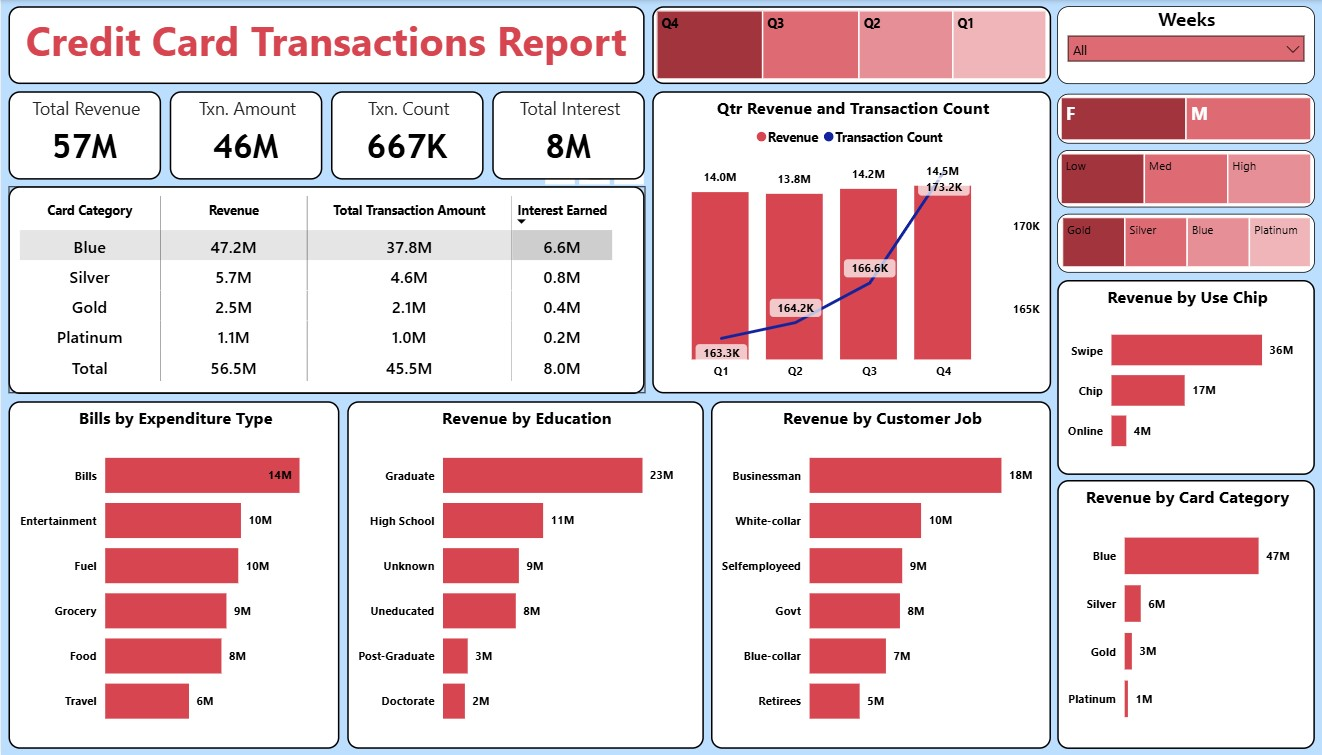

What the dashboard file says about the page in this screenshot:
{"tool":"powerbi","page":{"name":"Credit Card Transaction","canvas":[1400,800],"ordinal":0},"visuals":[{"type":"lineStackedColumnComboChart","title":"Qtr Revenue and Transaction Count","fields":{"Category":["public cc_detail.qtr"],"Y":["Sum(public cc_detail.Revenue)"],"Y2":["Sum(public cc_detail.total_trans_ct)"]},"box":[689.6,96.6,422.2,320.3],"z":0},{"type":"barChart","title":"Bills by Expenditure Type","fields":{"Y":["Sum(public cc_detail.Revenue)"],"Category":["public cc_detail.exp_type"]},"box":[7.9,424.9,350.8,368],"z":1000},{"type":"barChart","title":"Revenue by Education","fields":{"Y":["Sum(public cc_detail.Revenue)"],"Category":["public cust_detail.education_level"]},"box":[366.7,424.9,377.2,368],"z":2000},{"type":"barChart","title":"Revenue by Customer Job","fields":{"Y":["Sum(public cc_detail.Revenue)"],"Category":["public cust_detail.customer_job"]},"box":[751.8,424.9,360,368],"z":3000},{"type":"barChart","title":"Revenue by Card Category","fields":{"Y":["Sum(public cc_detail.Revenue)"],"Category":["public cc_detail.card_category"]},"box":[1118.5,508.3,272.7,284.6],"z":4000},{"type":"barChart","title":"Revenue by Use Chip","fields":{"Y":["Sum(public cc_detail.Revenue)"],"Category":["public cc_detail.use_chip"]},"box":[1118.5,296.5,272.7,206.5],"z":5000},{"type":"tableEx","fields":{"Values":["public cc_detail.card_category","Sum(public cc_detail.Revenue)","Sum(public cc_detail.total_trans_amt)","Sum(public cc_detail.interest_earned)"]},"box":[7.9,197.2,673.7,219.7],"z":6000},{"type":"card","title":"Total Revenue","fields":{"Values":["Sum(public cc_detail.Revenue)"]},"box":[7.9,96.6,161.5,94],"z":7000},{"type":"card","title":"Txn. Amount","fields":{"Values":["Sum(public cc_detail.total_trans_amt)"]},"box":[178.7,96.6,161.5,94],"z":8000},{"type":"card","title":"Txn. Count","fields":{"Values":["Sum(public cc_detail.total_trans_ct)"]},"box":[349.4,96.6,161.5,94],"z":9000},{"type":"card","title":"Total Interest","fields":{"Values":["Sum(public cc_detail.interest_earned)"]},"box":[520.2,96.6,161.5,94],"z":10000},{"type":"slicer","title":"Weeks","fields":{"Values":["public cc_detail.week_start_date"]},"box":[1118.5,6.6,272.7,82.1],"z":11000},{"type":"treemap","fields":{"Group":["public cc_detail.qtr"],"Values":["Avg(public cc_detail.client_num)"]},"box":[689.6,6.6,422.2,82.1],"z":12000},{"type":"treemap","fields":{"Group":["public cust_detail.gender"],"Values":["Avg(public cc_detail.client_num)"]},"box":[1118.5,99.3,272.7,52.9],"z":13000},{"type":"treemap","fields":{"Group":["public cc_detail.card_category"],"Values":["Avg(public cc_detail.client_num)"]},"box":[1118.5,226.3,272.7,62.2],"z":14000},{"type":"treemap","fields":{"Group":["public cust_detail.Income_Group"],"Values":["Avg(public cc_detail.client_num)"]},"box":[1118.5,158.8,272.7,60.9],"z":15000},{"type":"textbox","box":[7.9,6.6,673.7,82.1],"z":16000}]}

Visuals, with their boxes in screenshot pixels (x1, y1, x2, y2), scaled from the page's 1400x800 canvas onto the 1322x755 screenshot:
"Qtr Revenue and Transaction Count" lineStackedColumnComboChart: box(651, 91, 1050, 393)
"Bills by Expenditure Type" barChart: box(7, 401, 339, 748)
"Revenue by Education" barChart: box(346, 401, 702, 748)
"Revenue by Customer Job" barChart: box(710, 401, 1050, 748)
"Revenue by Card Category" barChart: box(1056, 480, 1314, 748)
"Revenue by Use Chip" barChart: box(1056, 280, 1314, 475)
tableEx - public cc_detail.card_category x Sum(public cc_detail.Revenue): box(7, 186, 644, 393)
"Total Revenue" card: box(7, 91, 160, 180)
"Txn. Amount" card: box(169, 91, 321, 180)
"Txn. Count" card: box(330, 91, 482, 180)
"Total Interest" card: box(491, 91, 644, 180)
"Weeks" slicer: box(1056, 6, 1314, 84)
treemap - public cc_detail.qtr x Avg(public cc_detail.client_num): box(651, 6, 1050, 84)
treemap - public cust_detail.gender x Avg(public cc_detail.client_num): box(1056, 94, 1314, 144)
treemap - public cc_detail.card_category x Avg(public cc_detail.client_num): box(1056, 214, 1314, 272)
treemap - public cust_detail.Income_Group x Avg(public cc_detail.client_num): box(1056, 150, 1314, 207)
textbox: box(7, 6, 644, 84)
